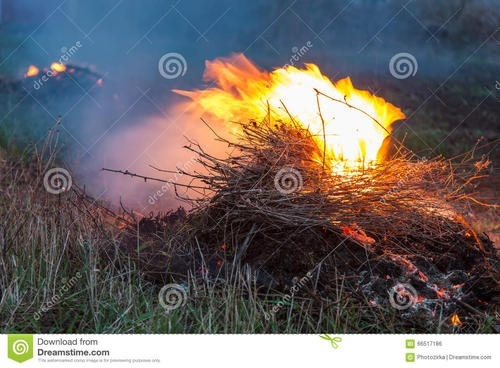fire: (192, 57, 407, 177), (25, 59, 71, 77), (49, 60, 68, 72)
